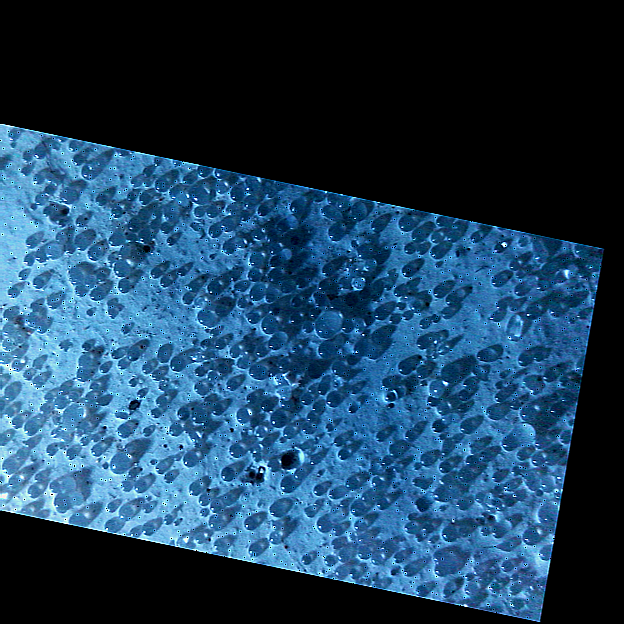GrassBeadSeg: (94, 193, 512, 571), (48, 256, 542, 557), (29, 174, 531, 459), (18, 167, 451, 481), (93, 158, 414, 545), (31, 228, 423, 542), (21, 152, 501, 402), (8, 197, 367, 530), (13, 242, 417, 533), (20, 233, 341, 561), (32, 251, 450, 502), (22, 255, 526, 461), (72, 217, 478, 467), (123, 193, 516, 451), (65, 302, 517, 526), (68, 297, 541, 508), (33, 260, 471, 482), (6, 309, 422, 541), (183, 293, 499, 592), (23, 237, 335, 537), (7, 131, 423, 356), (0, 304, 413, 520), (84, 244, 452, 485), (9, 271, 523, 443), (179, 294, 489, 535), (210, 371, 555, 584), (0, 207, 394, 389), (53, 217, 288, 521), (323, 225, 536, 543), (118, 286, 446, 486), (0, 285, 263, 533), (179, 174, 375, 503), (377, 244, 585, 551), (185, 270, 400, 566), (0, 388, 370, 559), (80, 394, 553, 525), (0, 302, 519, 417), (165, 265, 450, 473), (65, 373, 457, 518), (203, 229, 475, 433), (217, 201, 498, 395), (46, 481, 519, 594), (4, 387, 426, 512), (7, 285, 525, 385), (247, 253, 491, 462), (53, 357, 532, 457), (85, 381, 350, 561), (132, 340, 429, 493), (0, 325, 324, 463), (24, 392, 341, 532), (117, 366, 428, 508), (391, 288, 536, 592), (63, 336, 430, 455), (0, 387, 543, 466), (208, 216, 415, 415), (0, 435, 366, 545), (0, 381, 284, 517), (194, 310, 444, 457), (37, 393, 506, 471), (398, 316, 522, 609), (98, 461, 448, 564), (185, 396, 438, 535), (116, 409, 416, 522), (27, 301, 425, 386), (110, 224, 285, 416), (290, 261, 519, 402), (225, 444, 538, 546), (42, 280, 222, 455), (206, 436, 434, 570), (77, 436, 340, 549), (136, 231, 293, 409), (72, 217, 312, 332), (109, 301, 504, 370), (76, 371, 506, 433), (15, 146, 96, 468), (0, 360, 450, 416), (415, 244, 587, 384), (246, 364, 479, 465), (29, 376, 258, 476), (158, 238, 527, 300), (246, 254, 427, 378), (368, 226, 427, 597), (0, 346, 502, 388), (188, 186, 414, 278), (127, 469, 428, 537), (186, 188, 274, 412), (257, 317, 342, 547), (11, 230, 151, 358), (0, 188, 75, 411), (348, 330, 471, 452), (320, 320, 420, 470), (73, 285, 208, 396), (309, 311, 411, 456), (303, 314, 440, 421), (8, 135, 116, 263), (10, 417, 151, 513), (114, 456, 319, 520), (117, 425, 351, 481), (45, 244, 121, 416), (456, 396, 562, 517), (286, 313, 347, 521), (436, 286, 476, 597), (164, 237, 281, 341), (452, 221, 540, 359), (312, 381, 446, 471), (6, 439, 198, 500), (277, 479, 458, 542), (73, 423, 209, 506), (127, 469, 278, 543), (263, 307, 387, 396), (137, 509, 360, 557), (342, 367, 412, 509), (128, 435, 515, 460), (266, 412, 385, 489), (174, 408, 266, 507), (139, 399, 293, 454), (181, 386, 292, 460), (197, 286, 290, 370), (149, 254, 245, 335), (161, 459, 279, 524), (383, 403, 473, 488), (457, 380, 569, 448), (252, 347, 456, 384), (310, 196, 390, 290), (110, 217, 235, 276), (222, 379, 261, 557), (389, 552, 534, 598), (319, 206, 423, 268), (420, 471, 508, 542), (492, 244, 568, 322), (17, 154, 46, 357), (179, 452, 257, 526), (56, 155, 92, 310), (354, 295, 444, 357), (281, 378, 336, 479), (343, 265, 455, 313), (393, 360, 474, 426), (313, 459, 382, 532), (114, 424, 445, 439), (278, 484, 337, 566), (223, 169, 345, 207), (95, 147, 135, 260), (194, 347, 301, 389), (532, 252, 594, 318), (339, 501, 402, 565), (57, 290, 100, 382), (23, 231, 93, 287), (228, 235, 298, 290), (263, 264, 362, 301), (67, 142, 150, 186), (313, 500, 359, 578), (429, 218, 455, 356), (327, 366, 445, 396), (372, 431, 452, 473), (38, 329, 66, 448), (80, 160, 166, 198), (535, 264, 591, 322), (106, 205, 169, 256), (11, 422, 60, 487), (84, 349, 183, 377), (199, 203, 275, 239), (464, 548, 549, 580), (223, 188, 274, 240), (510, 360, 567, 406), (95, 368, 165, 405), (308, 280, 374, 316), (184, 282, 402, 292), (29, 179, 62, 243), (159, 186, 202, 233), (136, 361, 161, 436), (416, 453, 450, 508), (120, 190, 164, 231), (228, 467, 256, 531), (6, 271, 42, 317), (196, 164, 253, 193), (51, 496, 151, 512), (210, 339, 302, 354), (202, 328, 246, 358), (402, 231, 455, 254), (353, 266, 365, 354), (478, 573, 535, 589), (199, 352, 227, 381), (418, 305, 449, 329), (399, 564, 446, 578), (23, 313, 44, 333), (107, 455, 128, 473), (0, 459, 16, 474), (207, 501, 222, 514), (277, 399, 290, 410)
